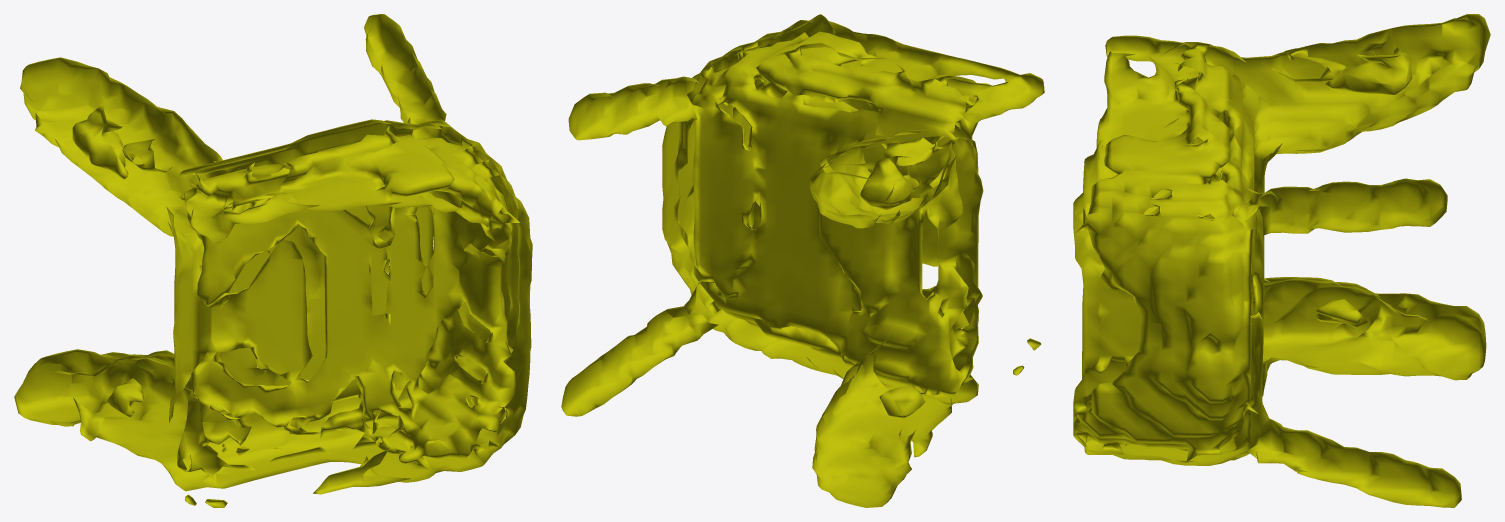
3 views of the same model, side by side, from view 1: azimuth 30°, elevation 25°; view 2: azimuth 150°, elevation 25°; view 3: azimuth 270°, elevation 25° (orthographic). The views are drawn at different scales.
Parts seen in each view (by area): view 1: world; view 2: world; view 3: world.
Part boxes in pixels (x1=…): world: x1=14, y1=14, x2=532, y2=507; world: x1=561, y1=14, x2=1044, y2=507; world: x1=1073, y1=14, x2=1490, y2=507.
Bounding box in the file's own units: 33.07 × 30.98 × 34.16.
